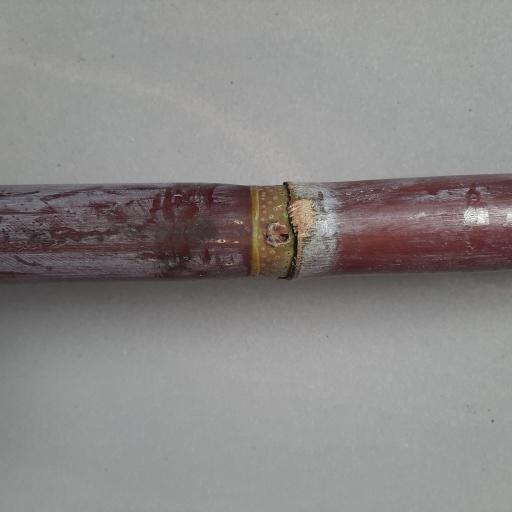Damage_Bud: (263, 222, 291, 246)
